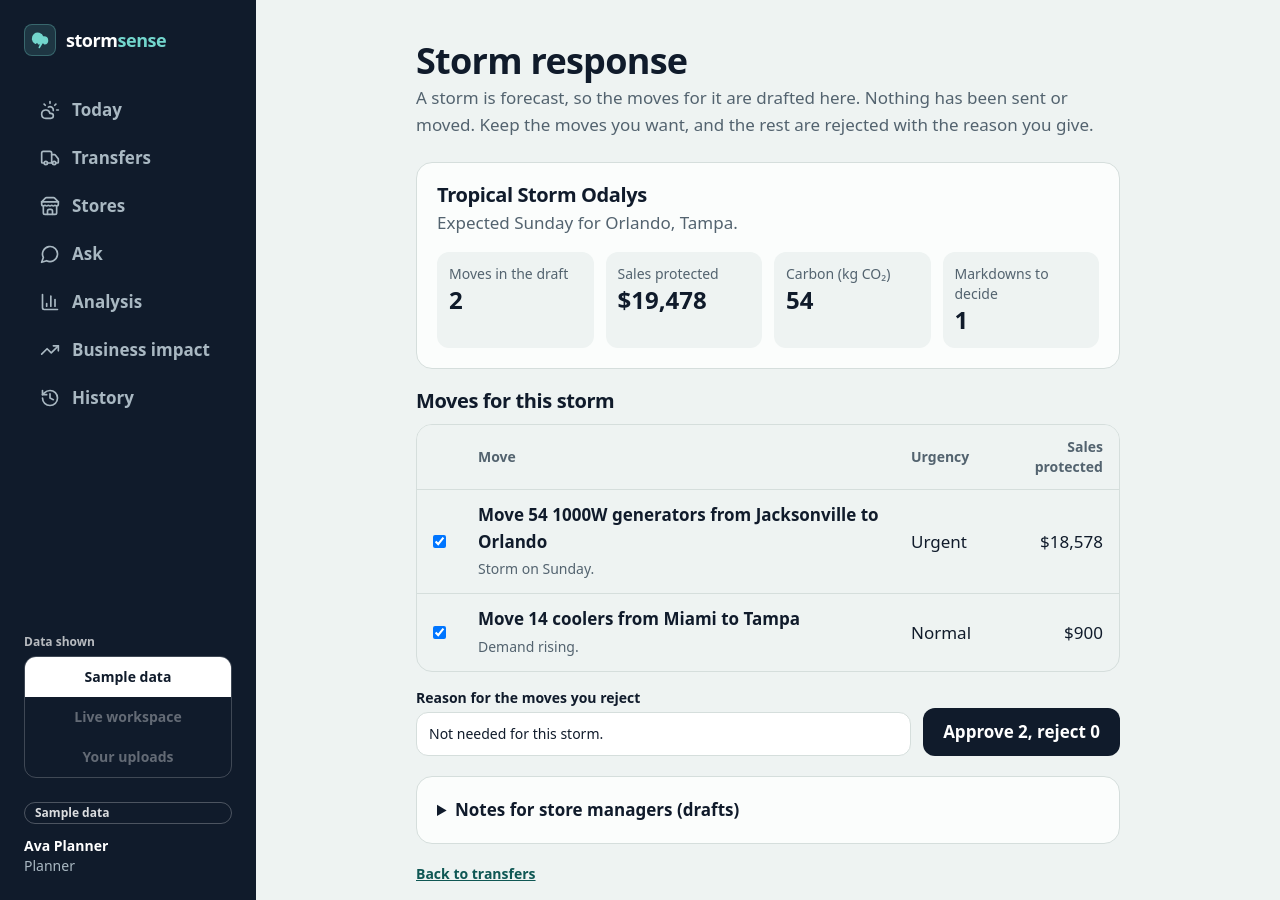
Test: Storm response › shows the draft's moves, keeps all of them by default, and approves the chosen ones
Expected: the text "Move 54 1000W generators from Jacksonville to Orlando" is shown, [478, 503, 879, 553]
Click the checkbox named "Keep: Move 14 coolers" at coordinates (440, 632), box [433, 626, 446, 639]
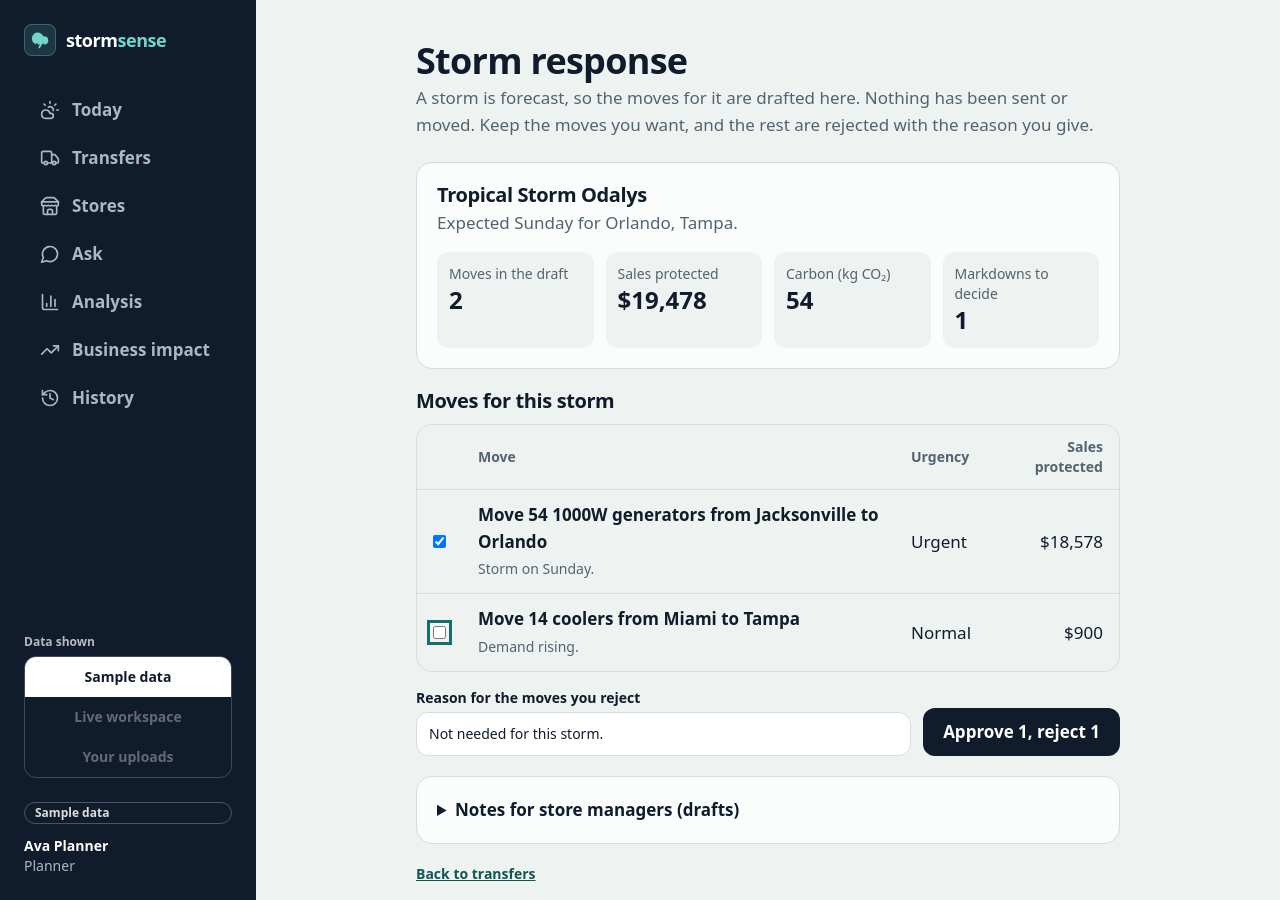
Click the button "Approve 1, reject 1" at coordinates (1022, 732), box [923, 708, 1120, 756]
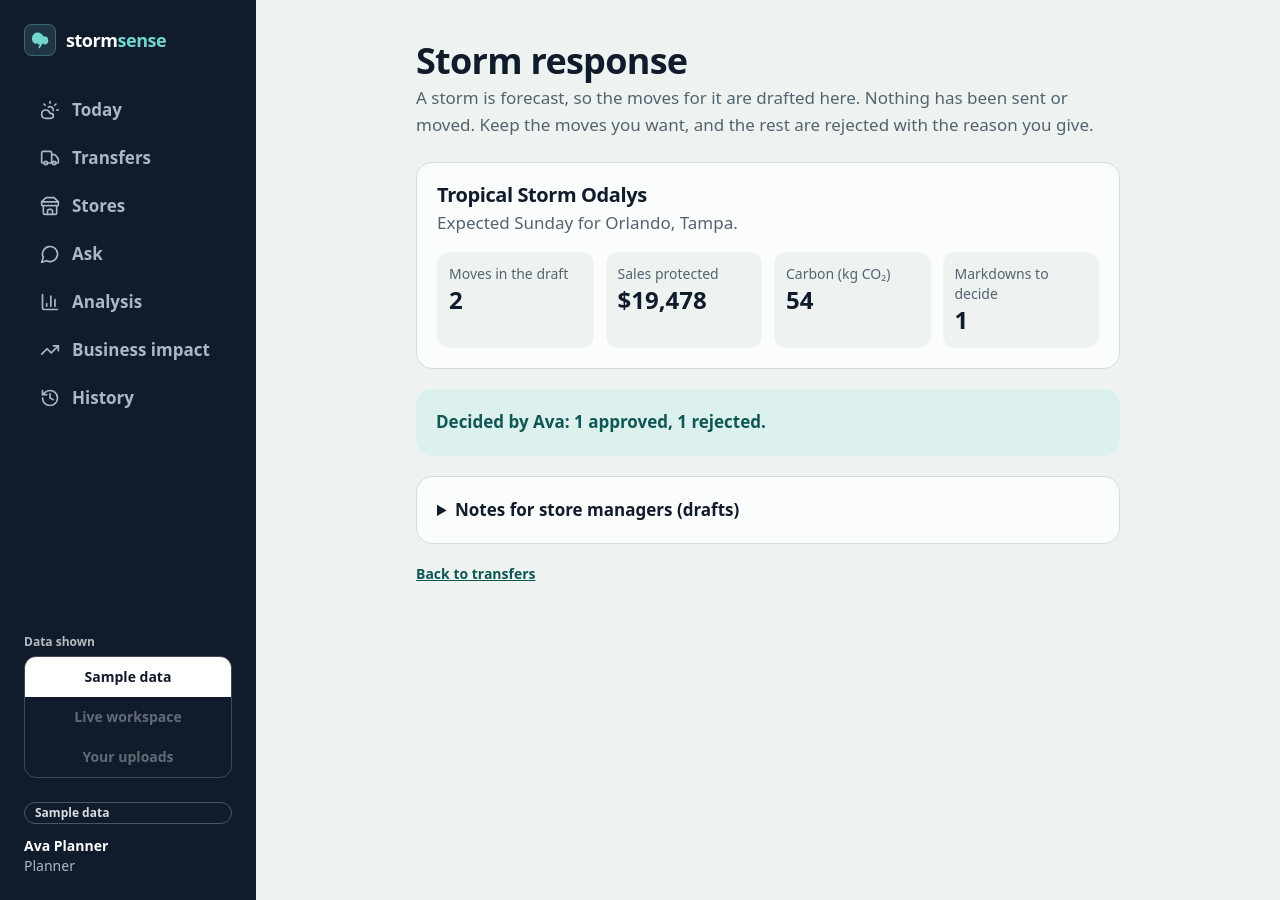
Expected: the text "Decided by Ava: 1 approved, 1 rejected." is shown, [416, 389, 1120, 456]
